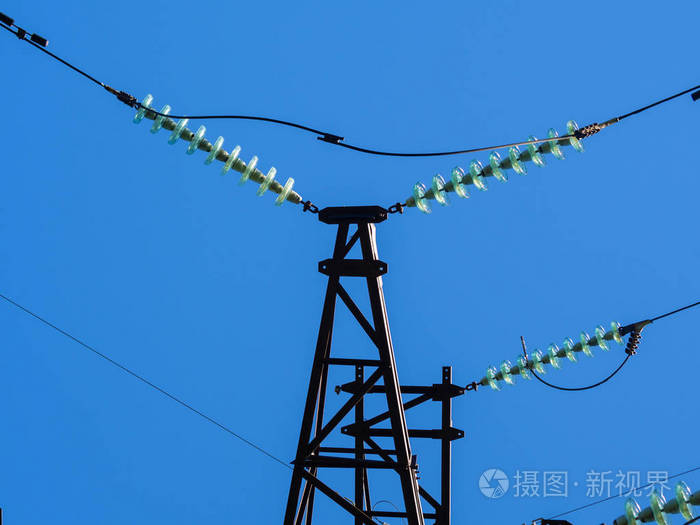insulator: (128, 92, 297, 206), (410, 120, 588, 218), (482, 320, 626, 392), (620, 483, 693, 525)
